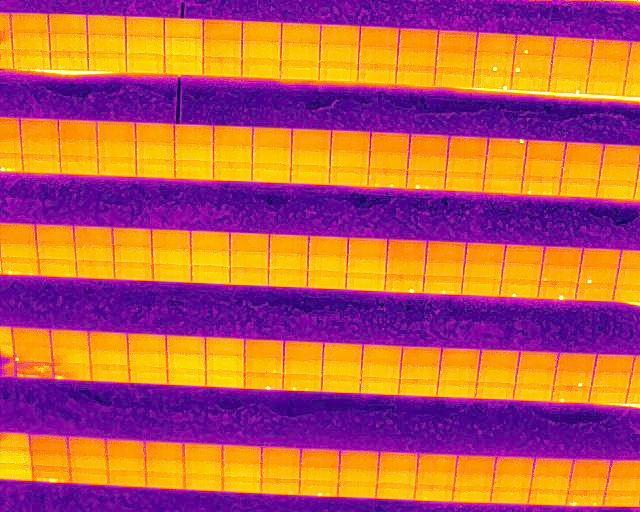Cell: (500, 279, 539, 299), (514, 36, 553, 56), (513, 54, 552, 74), (475, 52, 513, 72), (489, 139, 527, 159), (549, 74, 587, 93), (13, 346, 52, 364), (555, 370, 594, 388), (538, 282, 576, 300), (474, 72, 512, 90), (385, 275, 422, 293), (52, 364, 91, 381), (542, 266, 579, 283), (578, 267, 617, 283), (245, 357, 284, 373), (416, 486, 453, 502), (245, 373, 282, 389), (551, 387, 590, 401)
Cell-Multi: (423, 276, 462, 294), (14, 363, 52, 380), (368, 170, 406, 187), (0, 260, 40, 276), (406, 173, 445, 189), (301, 480, 340, 496), (521, 179, 559, 195), (33, 466, 71, 482), (567, 491, 604, 507), (283, 375, 322, 390)
No-Anomaly: (345, 271, 387, 291), (524, 159, 563, 180), (485, 157, 524, 177), (175, 161, 214, 181), (291, 165, 330, 185), (49, 14, 88, 34), (87, 14, 126, 34), (243, 22, 282, 42), (88, 34, 127, 54), (253, 128, 292, 148), (345, 256, 386, 275), (528, 141, 565, 162), (10, 12, 48, 32), (387, 239, 427, 258), (543, 246, 581, 266), (554, 38, 592, 58), (12, 50, 52, 69), (127, 16, 165, 36), (448, 138, 488, 157), (446, 157, 485, 176), (97, 158, 136, 177), (136, 160, 175, 179), (503, 263, 542, 282), (203, 21, 242, 40), (320, 25, 359, 44), (550, 57, 589, 76), (438, 381, 477, 400), (565, 144, 604, 163), (477, 33, 514, 53), (560, 178, 598, 197), (465, 242, 503, 261), (165, 18, 203, 37), (282, 24, 320, 43), (165, 38, 203, 57), (592, 41, 630, 60), (436, 50, 474, 69), (204, 58, 242, 77), (436, 68, 474, 87), (21, 120, 59, 139), (511, 74, 549, 93), (136, 123, 174, 142), (292, 130, 330, 149), (461, 277, 501, 295), (439, 367, 479, 385), (358, 48, 398, 66), (213, 146, 253, 164), (0, 224, 37, 243), (330, 169, 369, 187), (204, 40, 243, 58), (113, 228, 152, 246), (191, 232, 230, 250), (399, 30, 438, 48), (426, 242, 465, 260), (191, 265, 230, 283), (504, 246, 543, 264), (114, 246, 153, 264), (581, 249, 620, 267), (39, 259, 78, 277), (115, 263, 154, 281), (127, 54, 166, 72), (165, 56, 204, 74), (397, 67, 436, 85), (97, 123, 136, 141), (175, 126, 214, 144), (214, 128, 253, 146), (331, 132, 370, 150), (410, 137, 449, 155), (253, 148, 292, 166), (369, 152, 407, 170), (36, 225, 74, 243), (270, 235, 308, 253), (153, 264, 191, 282), (230, 267, 268, 285), (360, 28, 398, 46), (206, 370, 244, 388), (12, 32, 50, 50), (50, 34, 88, 52), (127, 36, 165, 54), (438, 32, 476, 50), (377, 483, 415, 501), (282, 44, 320, 62), (88, 54, 126, 72), (519, 352, 557, 370), (371, 135, 409, 153), (175, 144, 213, 162), (385, 258, 425, 275), (363, 346, 403, 363), (222, 446, 262, 463), (598, 181, 635, 199), (77, 260, 114, 278), (403, 347, 440, 365), (307, 271, 344, 289), (321, 45, 358, 63), (515, 385, 552, 403), (587, 77, 624, 95), (291, 150, 330, 167), (330, 151, 369, 168), (408, 155, 447, 172), (213, 165, 252, 182), (152, 232, 191, 249), (230, 234, 269, 251), (309, 238, 348, 255), (562, 162, 601, 179), (75, 245, 114, 262), (191, 250, 230, 267), (308, 256, 347, 273), (464, 260, 503, 277), (129, 367, 168, 384), (206, 339, 245, 356), (480, 352, 519, 369), (595, 354, 634, 371), (284, 358, 323, 375), (361, 377, 400, 394), (475, 384, 514, 401), (398, 49, 437, 66), (320, 64, 359, 81), (358, 67, 397, 84), (59, 123, 98, 140), (22, 139, 61, 156), (97, 141, 136, 158), (136, 142, 175, 159), (61, 157, 97, 175), (603, 145, 639, 163), (22, 156, 60, 173), (446, 175, 484, 192), (252, 166, 290, 183), (484, 177, 522, 194), (74, 227, 112, 244), (400, 379, 438, 396), (269, 270, 307, 287), (89, 334, 127, 351), (206, 355, 244, 372), (323, 376, 361, 393), (91, 366, 129, 383), (107, 440, 145, 457), (109, 470, 147, 487), (243, 42, 281, 59), (51, 52, 89, 69), (243, 60, 281, 77), (59, 140, 97, 157), (166, 338, 206, 354), (167, 370, 207, 386), (601, 163, 638, 180), (441, 351, 478, 368), (589, 59, 626, 76), (282, 61, 319, 78), (557, 353, 594, 370), (167, 354, 206, 370), (0, 243, 39, 259), (38, 244, 77, 260), (152, 249, 191, 265), (575, 283, 614, 299), (245, 341, 284, 357), (89, 351, 128, 367), (323, 361, 362, 377), (230, 252, 269, 268), (379, 453, 418, 469), (418, 455, 457, 471), (378, 469, 417, 485), (528, 489, 567, 505), (52, 350, 91, 366), (269, 254, 307, 270), (51, 334, 89, 350), (323, 345, 361, 361), (516, 370, 554, 386), (146, 443, 184, 459), (417, 471, 455, 487), (570, 475, 608, 491), (127, 338, 167, 353), (223, 477, 263, 492), (361, 364, 401, 379), (426, 260, 463, 276), (457, 456, 494, 472), (339, 482, 376, 498), (593, 372, 630, 388), (348, 241, 387, 256), (12, 330, 51, 345), (284, 343, 323, 358), (339, 452, 378, 467), (146, 459, 185, 474), (223, 463, 262, 478), (401, 365, 439, 380), (479, 369, 517, 384), (32, 436, 70, 451), (263, 449, 301, 464), (590, 387, 628, 402), (108, 457, 146, 472), (495, 459, 533, 474), (339, 467, 377, 482), (146, 474, 184, 489), (531, 474, 569, 489), (185, 475, 223, 490), (69, 438, 106, 453), (70, 454, 107, 469), (572, 460, 609, 475), (72, 470, 109, 485), (456, 473, 493, 488), (263, 479, 300, 494), (127, 353, 166, 367), (261, 465, 300, 479), (493, 475, 532, 489), (32, 451, 70, 465), (301, 452, 339, 466), (453, 488, 491, 502), (185, 446, 222, 460), (300, 467, 339, 480), (533, 460, 571, 473), (492, 489, 530, 502), (185, 462, 222, 475)
